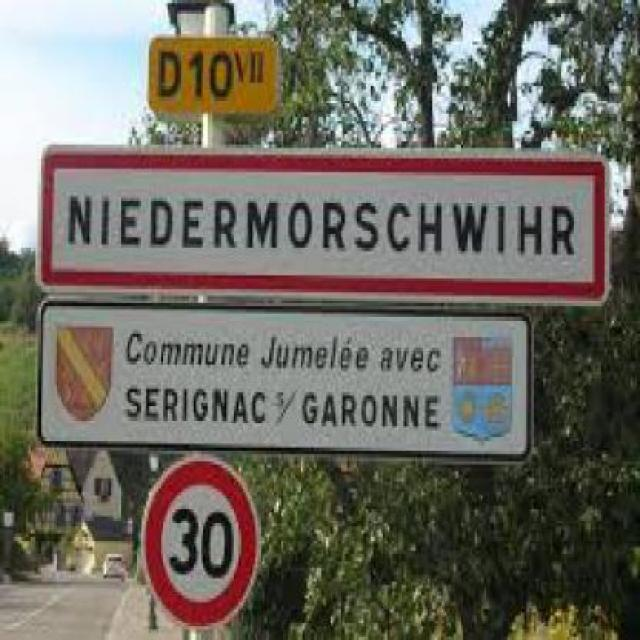Ograniczenie predkosci do 30: (140, 458, 262, 633)
